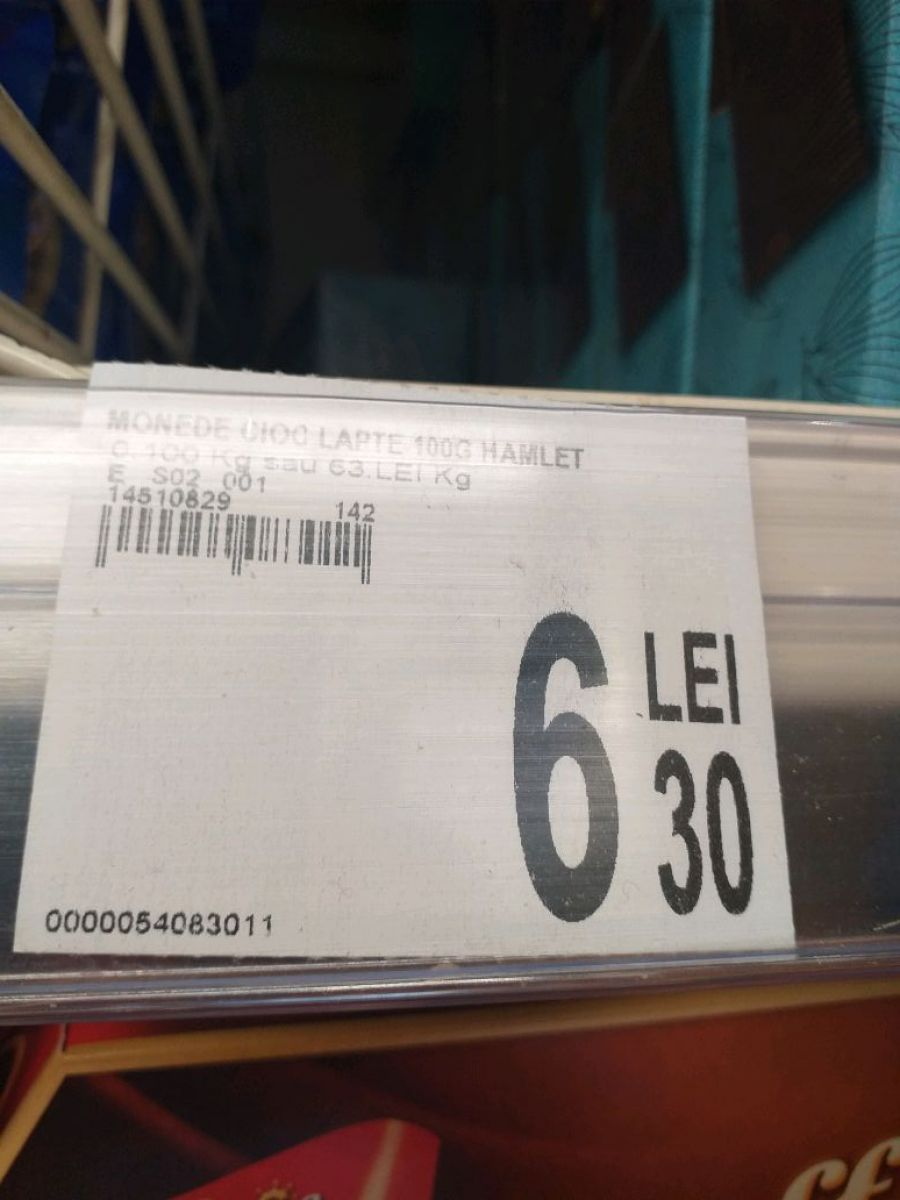bardcode: (42, 906, 277, 944)
list: (17, 356, 799, 955)
name: (101, 404, 590, 474)
price: (499, 607, 769, 925)
